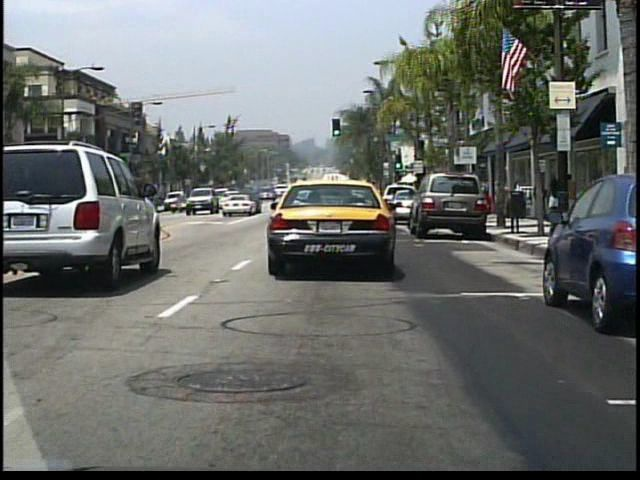person: (544, 172, 566, 224), (561, 170, 581, 224), (531, 177, 550, 226)
